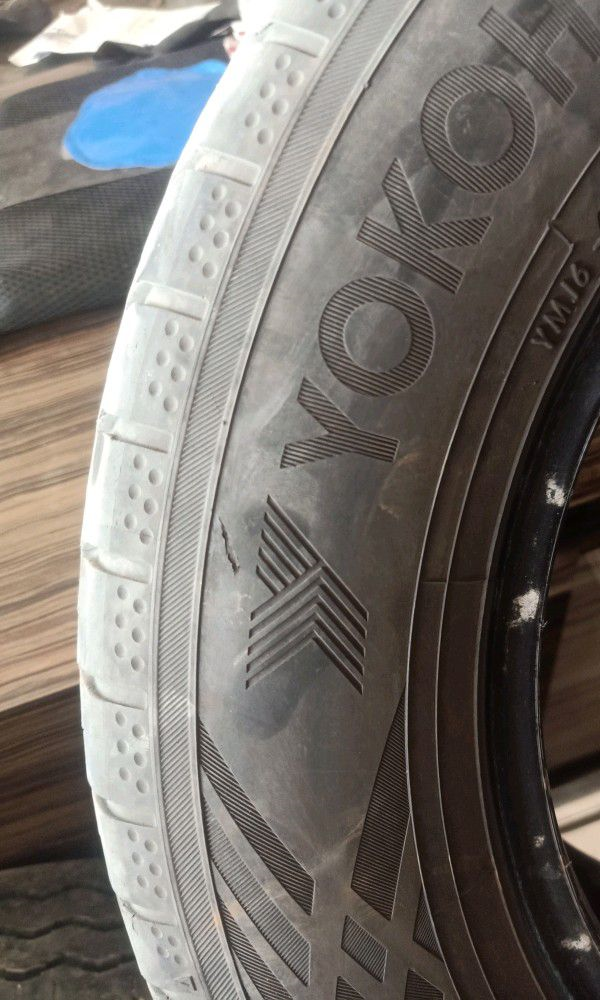cut: (217, 520, 242, 579)
